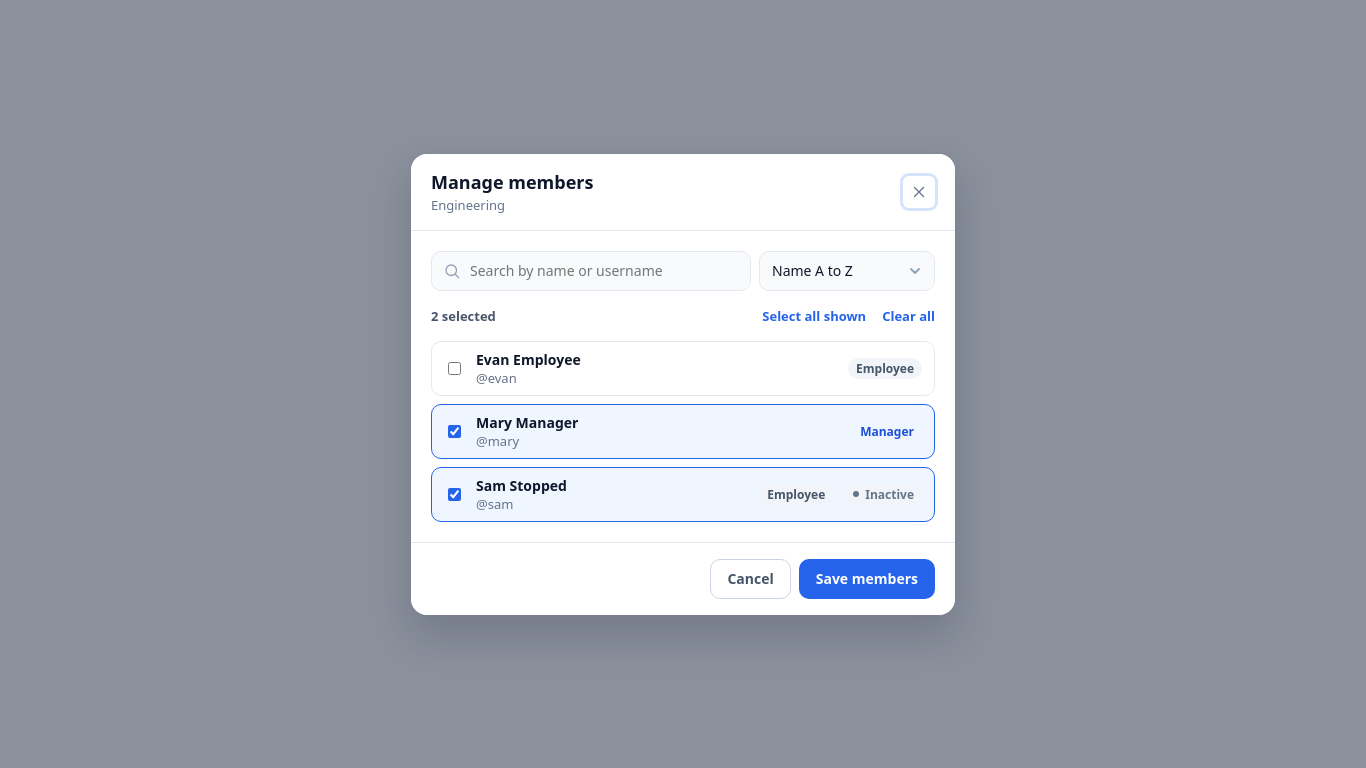
Scenario: DepartmentMembersDialogComponent › filters the list by name or username and says so when nobody matches
The image size is (1366, 768).
Type "EVAN" into the search field with id "dm-search" at (591, 270), box x1=431 y1=250 x2=751 y2=290
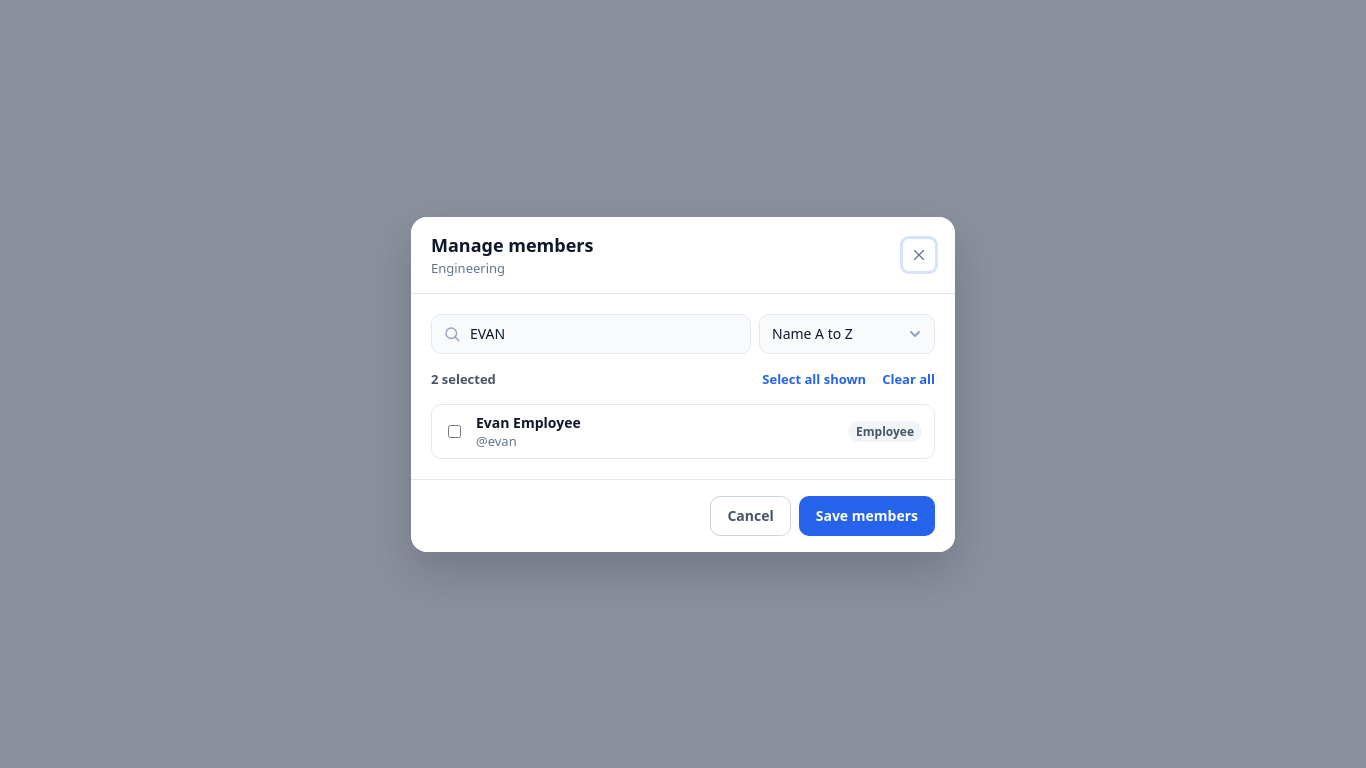
Replace the text in the search field with id "dm-search" with "mary" at (591, 334), box x1=431 y1=314 x2=751 y2=354
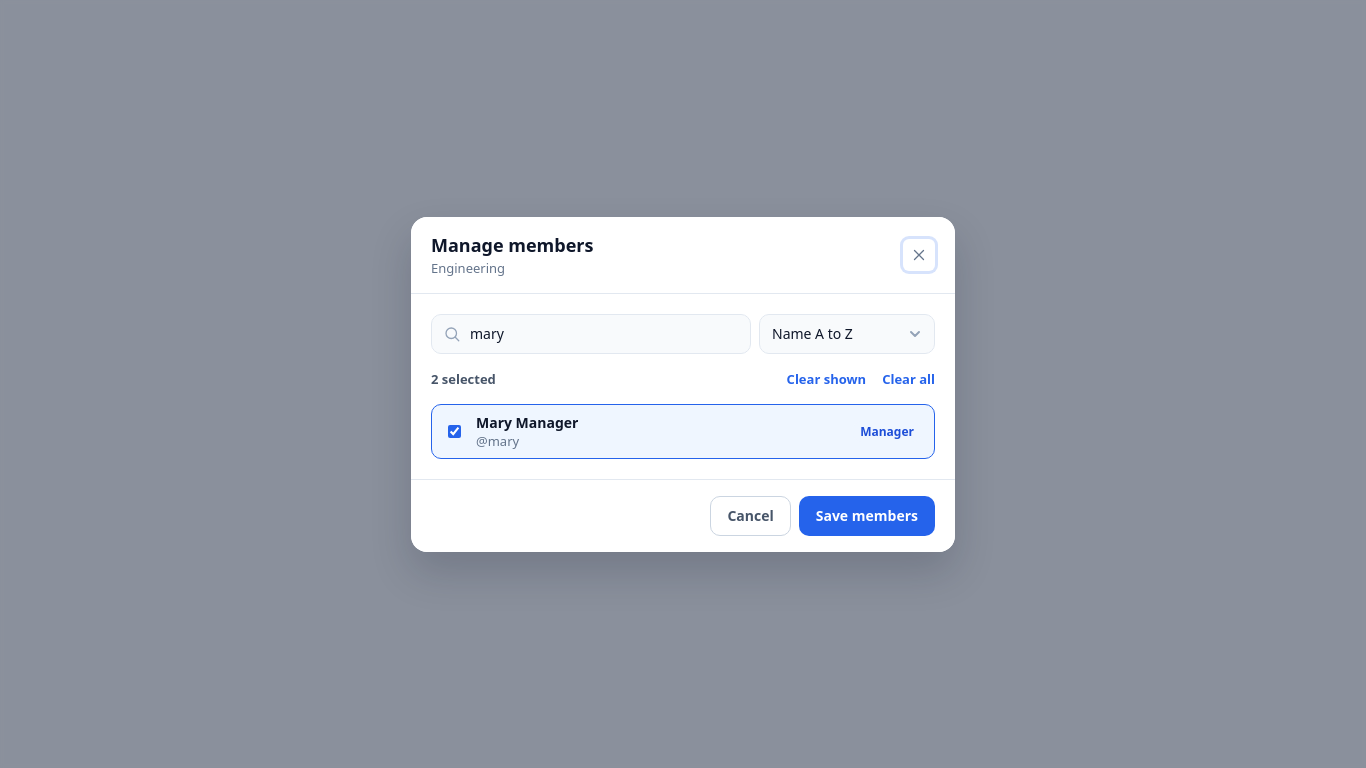
Replace the text in the search field with id "dm-search" with "nobody" at (591, 334), box x1=431 y1=314 x2=751 y2=354
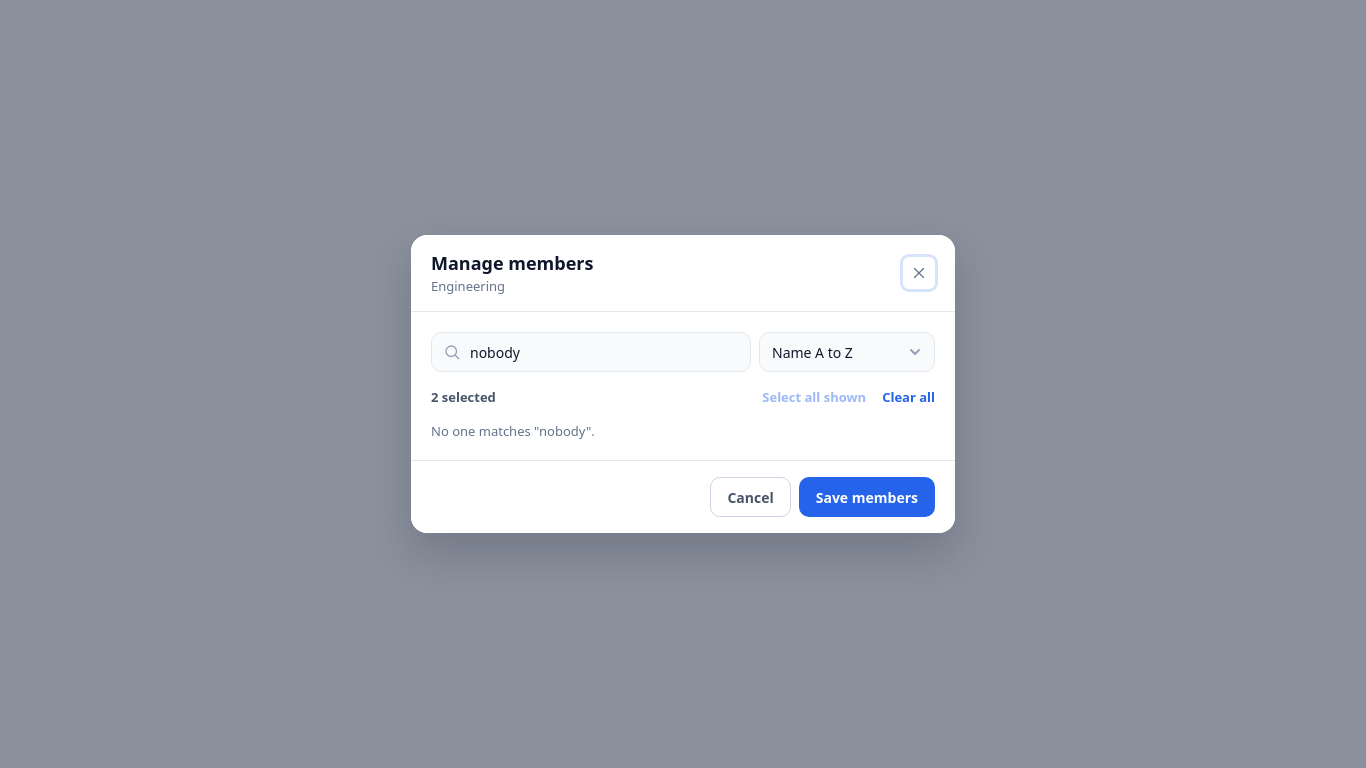
Expected: the list item "No one matches \"nobody\"." shows "No one matches \"nobody\"", x1=431 y1=422 x2=595 y2=440
